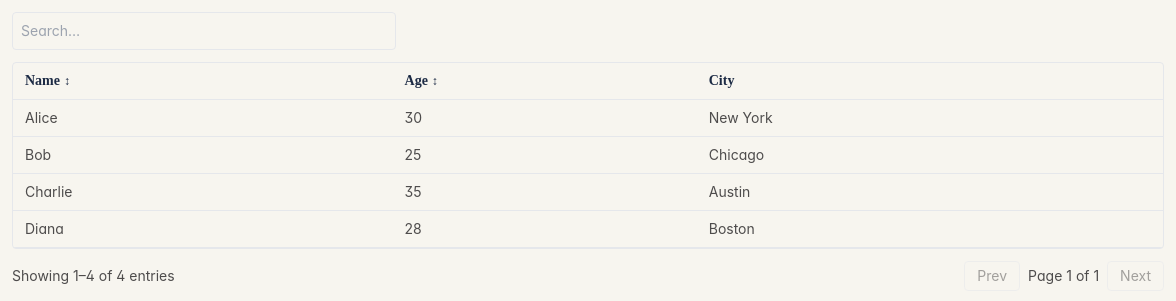
Test: DataTable (HUB-1601) › AC#2 — search › typing filters rows by configured searchableColumns (case-insensitive substring)
This screenshot has width=1176, height=301.
Type "ali" into the search field named "Search Sample table" at (204, 31), box [12,12,396,50]
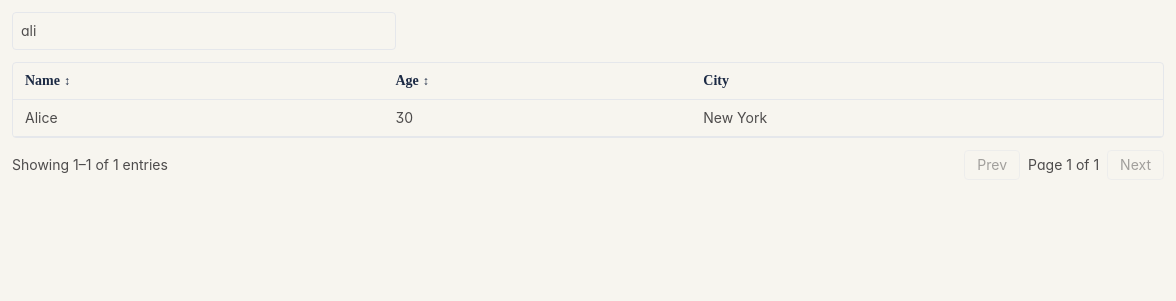
Expected: the row with test id "data-table-row" shows "Alice", [25,109,58,126]
Expected: the number of rows with test id "data-table-row" is 1, [13,100,1163,136]
